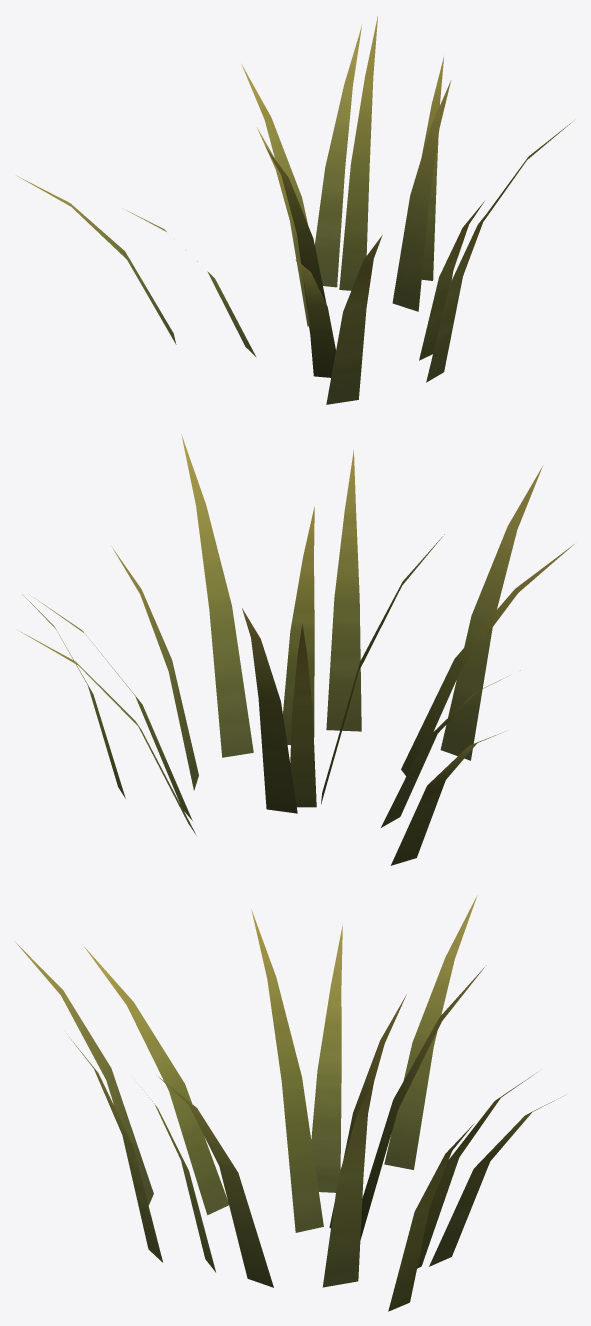
Rendered from HubGrassClump.fbx.
3 renders of one model, top to bottom at view 1: azimuth 30°, elevation 25°; view 2: azimuth 150°, elevation 25°; view 3: azimuth 270°, elevation 25°, orthographic. The views are drawn at different scales.
Visible parts, largest first — view 1: HubGrassClump; view 2: HubGrassClump; view 3: HubGrassClump.
Boxes of the visible parts, left/top/right/bottom form: HubGrassClump: left=16, top=16, right=571, bottom=404; HubGrassClump: left=18, top=434, right=574, bottom=865; HubGrassClump: left=15, top=895, right=566, bottom=1311.
Size of the model in its own units: 2.58 by 1.35 by 2.5.
1 material, 1 textured.
